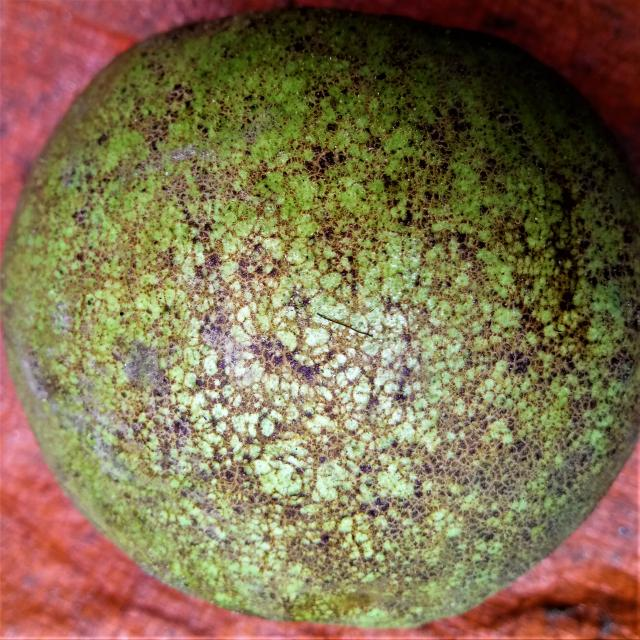Scab: (1, 9, 640, 628)
